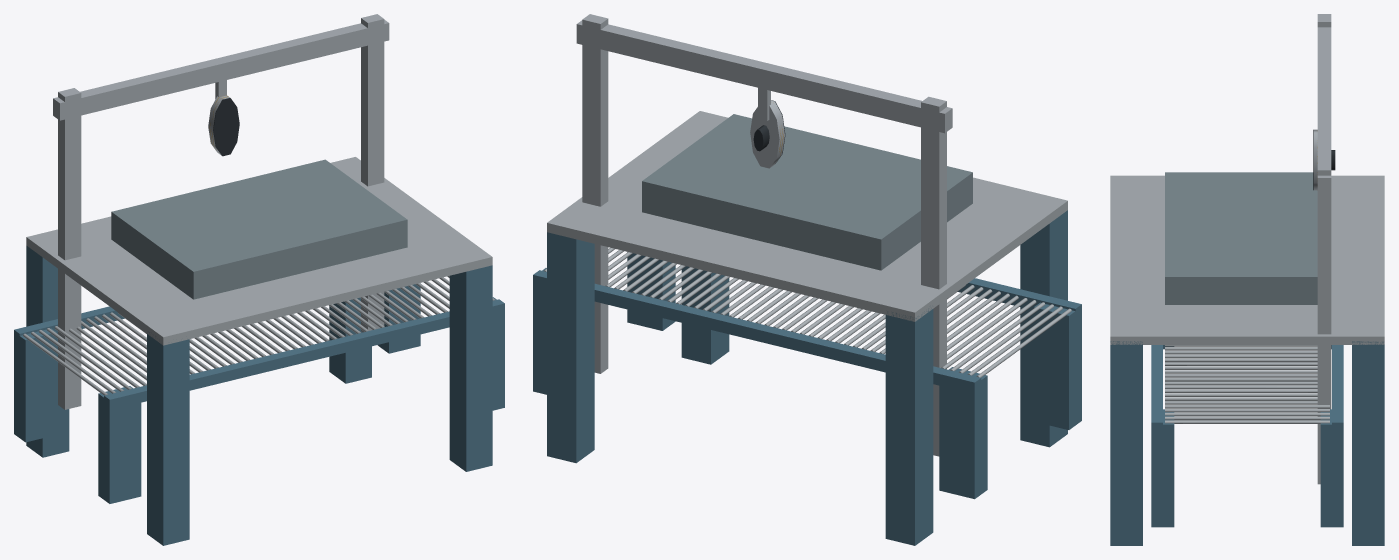
3 renders of one model, left to right at view 1: azimuth 30°, elevation 25°; view 2: azimuth 150°, elevation 25°; view 3: azimuth 270°, elevation 25°, orthographic. The views are drawn at different scales.
Parts seen in each view (by area): view 1: g0.003, g4.001, g3.002, g1, g0.004, g0.006, g5.001, g1.002, g0.007, g0.005, g0, g2.001 (+4 smaller); view 2: g0.003, g4.001, g0, g2.001, g0.004, g0.005, g0.006, g4, g0.007, g1, g1.002, g3.002 (+4 smaller); view 3: g4.001, g0.003, g2.001, g3.002, g0.005, g2, g3, g0.004, g4, g5.001, g53, g54 (+18 smaller).
Boxes of the visible parts, x1,y1,x2,y2 form: g0.003: [111, 159, 407, 299]; g4.001: [26, 157, 492, 345]; g3.002: [449, 265, 492, 471]; g1: [147, 331, 189, 545]; g0.004: [53, 19, 389, 120]; g0.006: [58, 88, 81, 409]; g5.001: [104, 299, 504, 409]; g1.002: [98, 386, 141, 503]; g0.007: [14, 328, 56, 442]; g0.005: [361, 14, 384, 332]; g0: [26, 245, 69, 457]; g2.001: [329, 297, 371, 383]; g0.003: [642, 114, 972, 270]; g4.001: [547, 111, 1067, 321]; g0: [885, 308, 933, 545]; g2.001: [547, 232, 594, 463]; g0.004: [576, 20, 952, 133]; g0.005: [582, 14, 608, 373]; g0.006: [921, 96, 946, 456]; g4: [533, 270, 981, 385]; g0.007: [939, 367, 987, 499]; g1: [1020, 210, 1067, 447]; g1.002: [1033, 302, 1081, 429]; g3.002: [681, 266, 729, 364]; g4.001: [1110, 175, 1384, 344]; g0.003: [1165, 172, 1317, 304]; g2.001: [1352, 341, 1384, 545]; g3.002: [1110, 341, 1142, 545]; g0.005: [1317, 162, 1331, 484]; g2: [1320, 409, 1343, 527]; g3: [1151, 409, 1174, 527]; g0.004: [1317, 27, 1331, 195]; g4: [1332, 345, 1343, 424]; g5.001: [1151, 345, 1162, 424]; g53: [1165, 412, 1329, 416]; g54: [1165, 416, 1329, 420].
Size of the model in its own units: 2 by 1.8 by 1.2.
